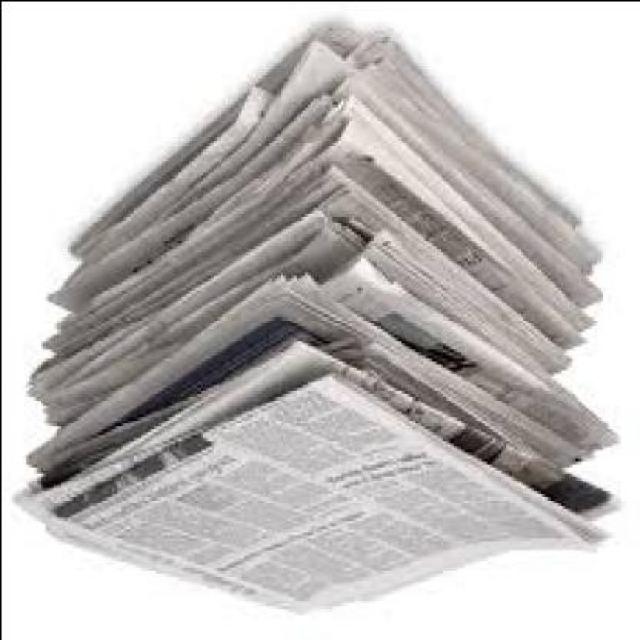PAPER: (17, 44, 620, 616), (69, 27, 602, 275), (24, 295, 618, 510), (47, 210, 598, 372)
